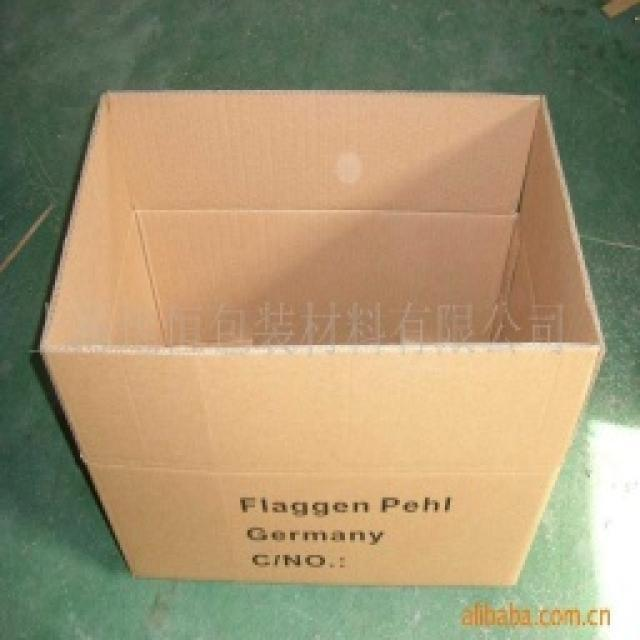box: (34, 78, 596, 636)
